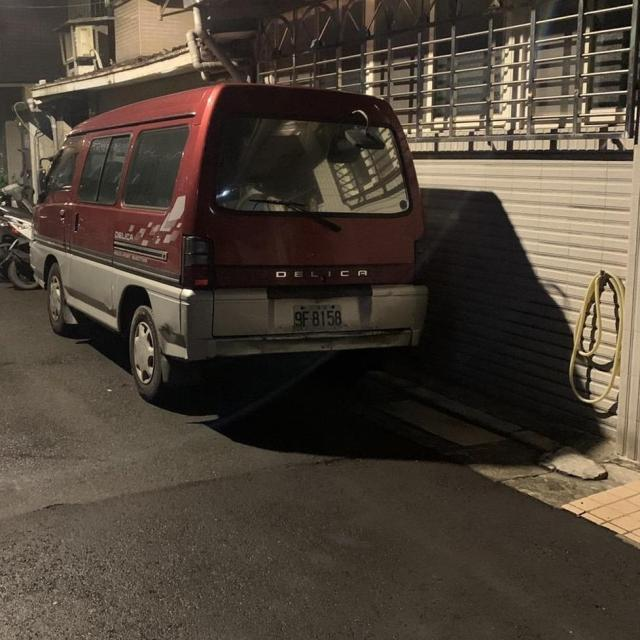W: (286, 297, 355, 339)
